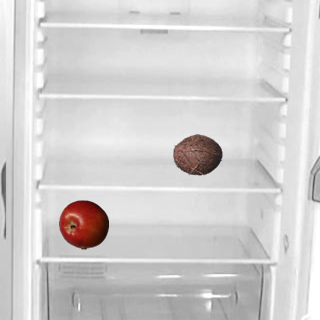Apple Braeburn: (58, 199, 108, 249)
Cocos: (172, 129, 222, 179)
